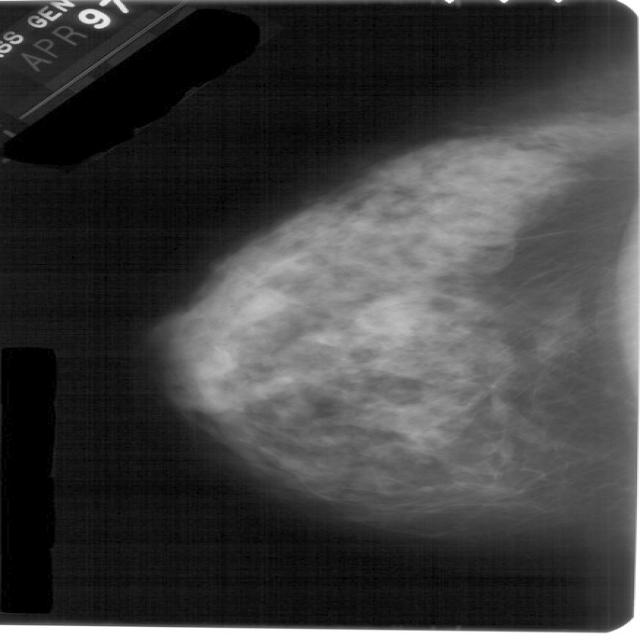tumour: (457, 367, 527, 405)
